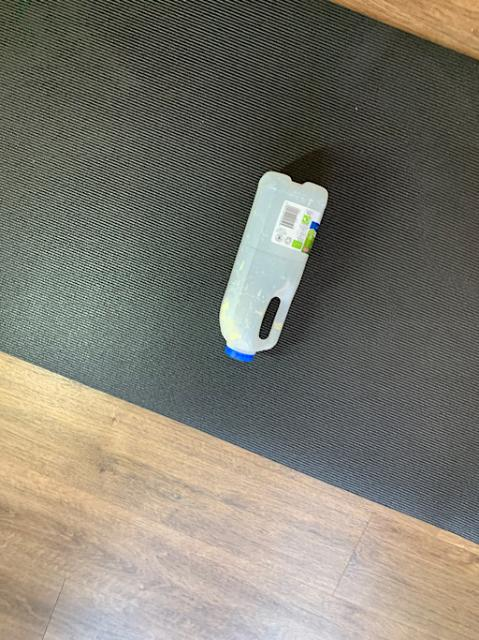plastic: (219, 171, 326, 360)
